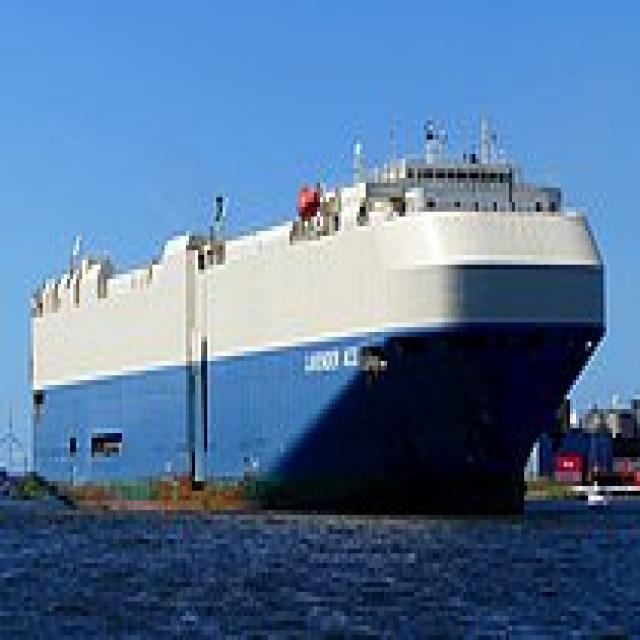Carrier: (24, 106, 606, 520)
